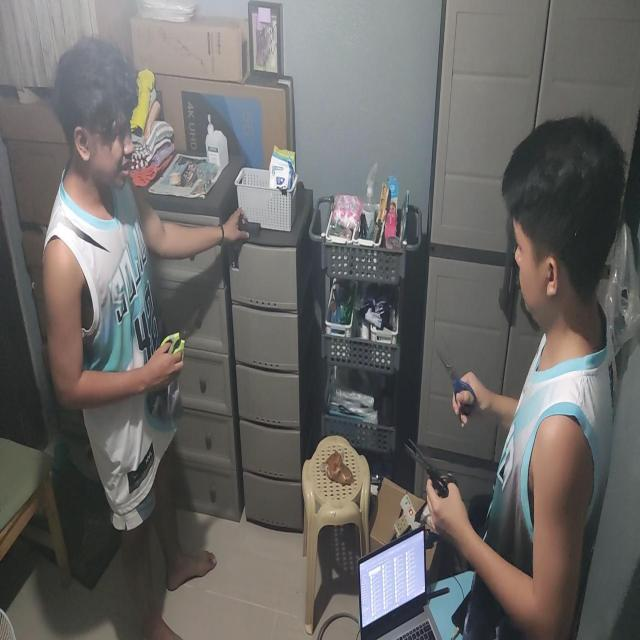scissor: (404, 438, 457, 504), (434, 342, 478, 414), (160, 306, 201, 367)
